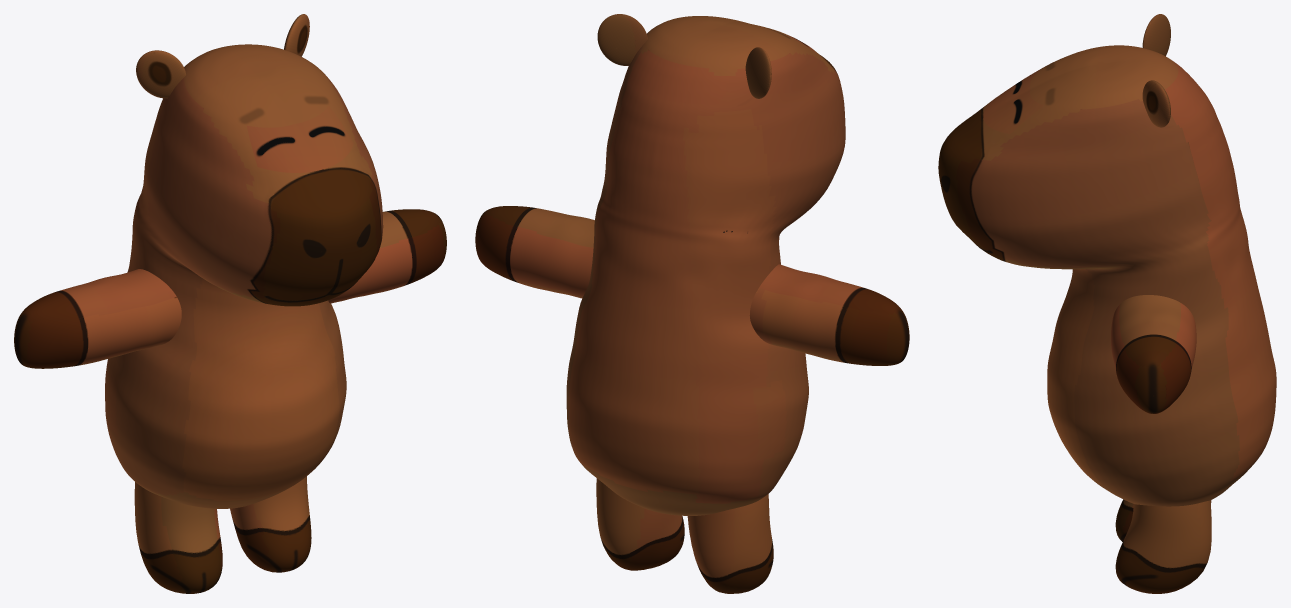
Rendered from Chonko.glb.
3 views of the same model, side by side, from view 1: azimuth 30°, elevation 25°; view 2: azimuth 150°, elevation 25°; view 3: azimuth 270°, elevation 25° (orthographic). The views are drawn at different scales.
Visible parts, largest first — view 1: Secury cp; view 2: Secury cp; view 3: Secury cp.
Boxes of the visible parts, box(x1,y1,x2,y2) form: Secury cp: box(14, 14, 446, 593); Secury cp: box(475, 14, 909, 593); Secury cp: box(938, 14, 1276, 593).
Bounding box in the file's own units: 3.67 × 4.44 × 2.62.
1 material, 1 textured.
